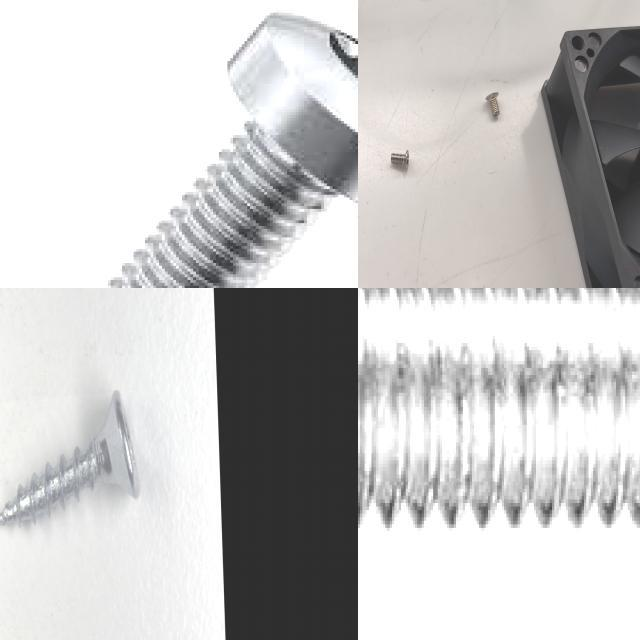Screw: (95, 13, 358, 288), (358, 288, 640, 531), (0, 389, 140, 524), (483, 90, 504, 122), (388, 148, 412, 172)
